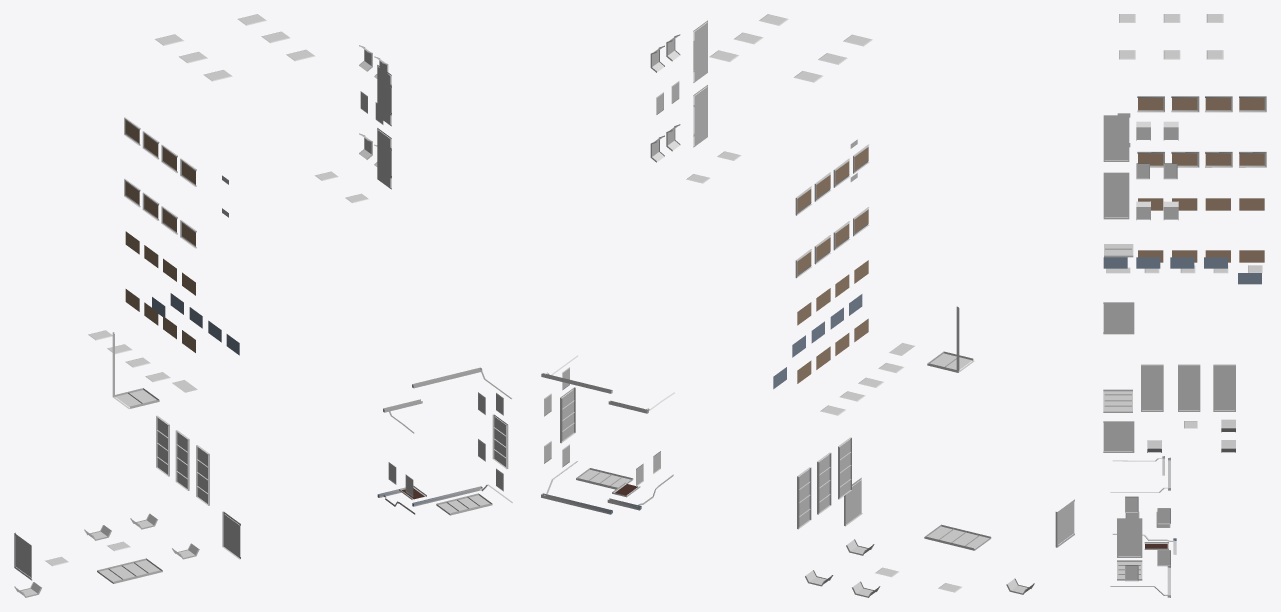
The picture shows the model from 3 angles, left to right: view 1: azimuth 30°, elevation 25°; view 2: azimuth 150°, elevation 25°; view 3: azimuth 270°, elevation 25°; orthographic projection. The views are drawn at different scales.
Parts seen in each view (by area): view 1: SM_000286.001; view 2: SM_000286.001; view 3: SM_000286.001.
Part boxes in pixels (<box>): SM_000286.001: <box>14,14,512,597</box>; SM_000286.001: <box>541,14,1074,597</box>; SM_000286.001: <box>1103,14,1266,597</box>.
Bounding box in the file's own units: 39.54 × 38.95 × 12.71.
